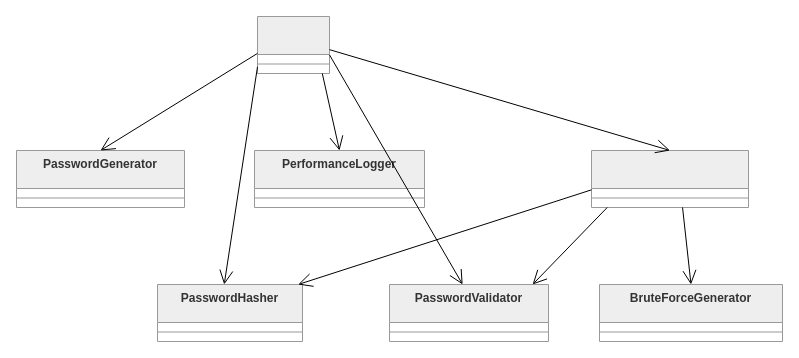
Some shapes in this 799 by 358 pixel diagram are drawn without their labels. Each missing label, with the centre of its shape:
BruteForceEngine: the point at 669,179
Form1: the point at 293,45
